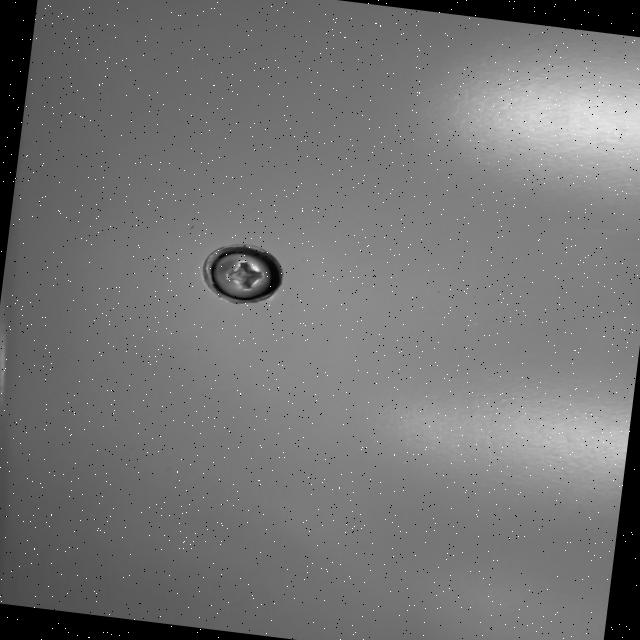Phillips: (203, 238, 284, 310)
